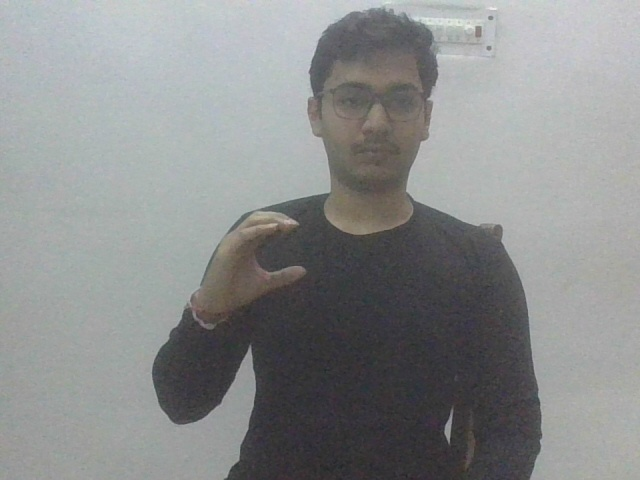C: (198, 203, 317, 318)
